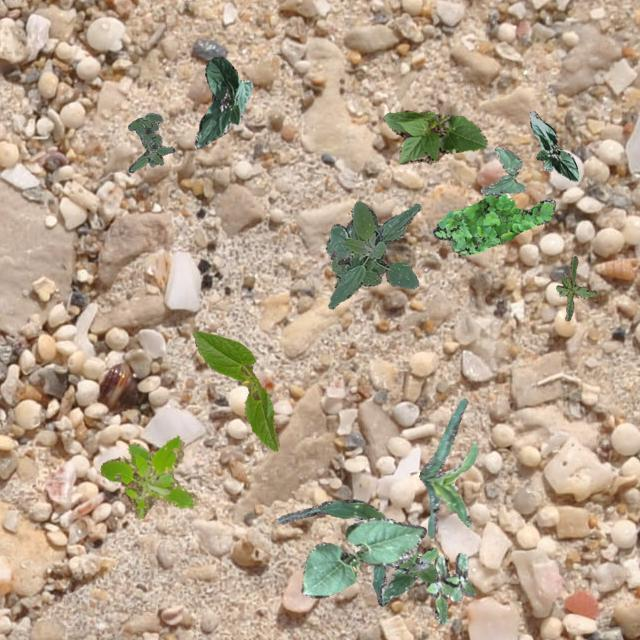crop: (276, 498, 386, 604), (324, 200, 420, 308), (300, 516, 426, 598), (192, 330, 278, 450), (418, 398, 477, 536), (382, 110, 487, 164), (194, 56, 252, 148), (528, 110, 578, 180), (480, 146, 524, 194)
weed: (100, 434, 196, 518), (432, 192, 554, 255), (418, 552, 474, 624), (382, 546, 436, 602), (126, 112, 174, 172), (554, 256, 596, 320)
